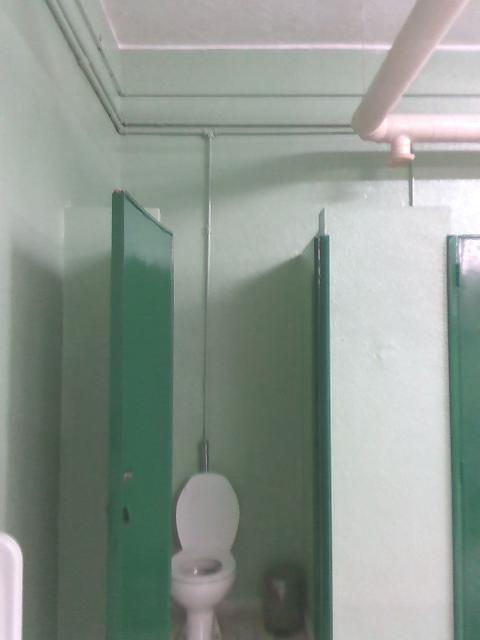open_door: (160, 206, 333, 638)
